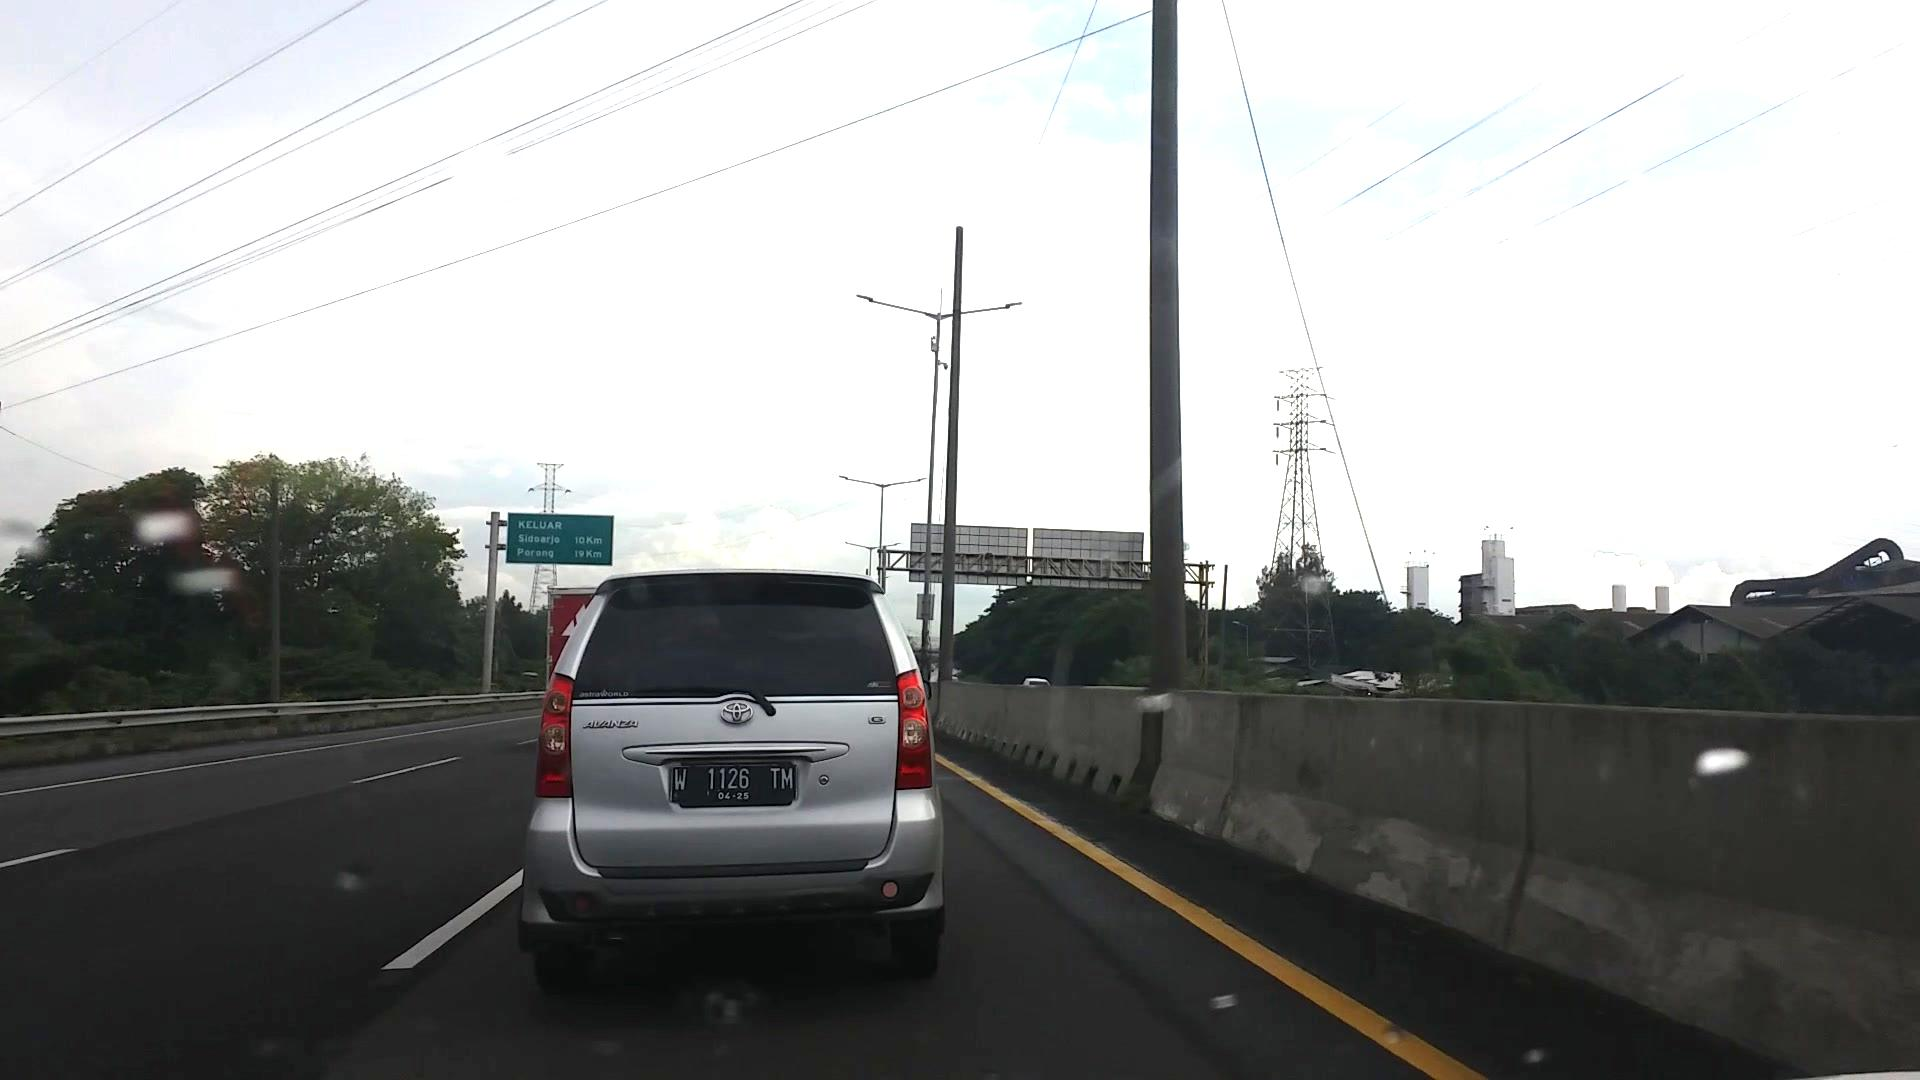plate_positive: (669, 764, 796, 806)
